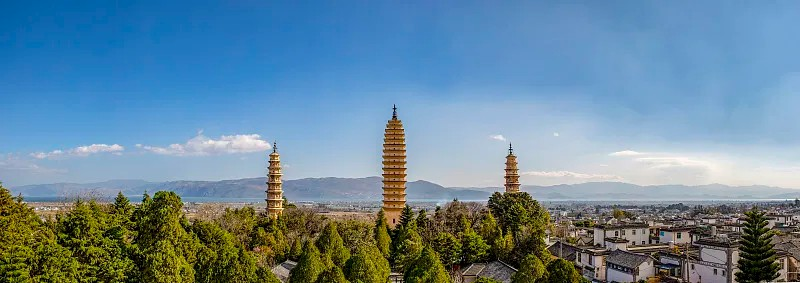ThreePagoda: (381, 103, 408, 228)
